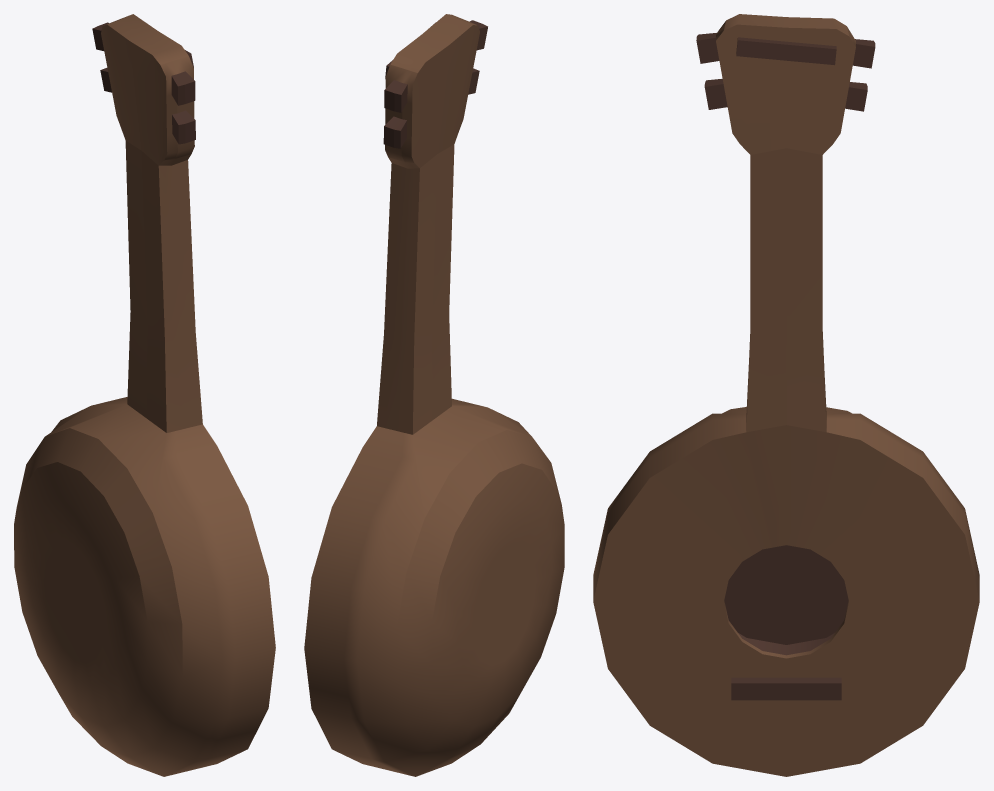
Rendered from Guitar.fbx.
3 views of the same model, side by side, from view 1: azimuth 30°, elevation 25°; view 2: azimuth 150°, elevation 25°; view 3: azimuth 270°, elevation 25° (orthographic). The views are drawn at different scales.
Visible parts, largest first — view 1: Guitar; view 2: Guitar; view 3: Guitar.
Part boxes in pixels (x1,y1,x2,y2): Guitar: (14,14,275,776); Guitar: (304,14,564,776); Guitar: (593,14,979,776).
Bounding box in the file's own units: 32.84 × 193 × 91.42.
